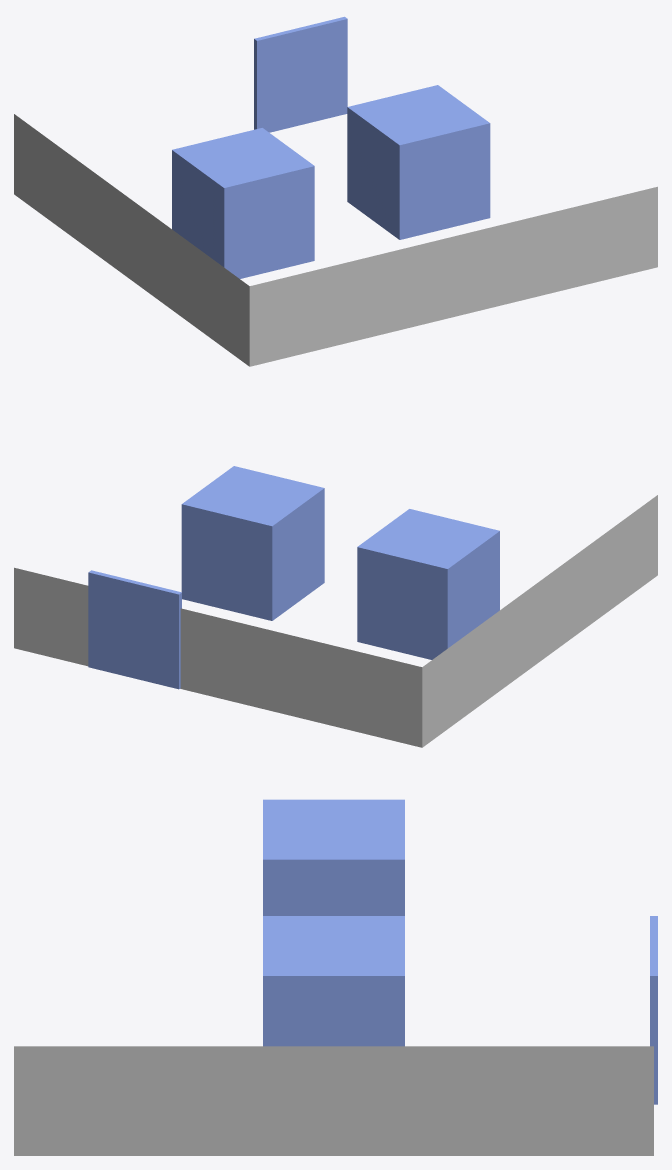
File: Server.glb
The picture shows the model from 3 angles, top to bottom: view 1: azimuth 30°, elevation 25°; view 2: azimuth 150°, elevation 25°; view 3: azimuth 270°, elevation 25°; orthographic projection. The views are drawn at different scales.
Parts seen in each view (by area): view 1: Plane, SERVER 2, SERVER 1, PINTU.001; view 2: Plane, SERVER 2, SERVER 1, PINTU.001; view 3: Plane, SERVER 2, SERVER 1, PINTU.001.
Part boxes in pixels (left/top/right/bottom): Plane: left=14, top=114, right=657, bottom=366; SERVER 2: left=347, top=85, right=490, bottom=239; SERVER 1: left=172, top=128, right=314, bottom=278; PINTU.001: left=254, top=16, right=347, bottom=132; Plane: left=14, top=495, right=657, bottom=747; SERVER 2: left=181, top=466, right=324, bottom=620; SERVER 1: left=357, top=509, right=499, bottom=659; PINTU.001: left=88, top=570, right=181, bottom=689; Plane: left=14, top=1046, right=653, bottom=1155; SERVER 2: left=263, top=916, right=404, bottom=1046; SERVER 1: left=263, top=799, right=404, bottom=915; PINTU.001: left=650, top=916, right=657, bottom=1104.
Bounding box in the file's own units: 2 × 0.4469 × 2.01.
